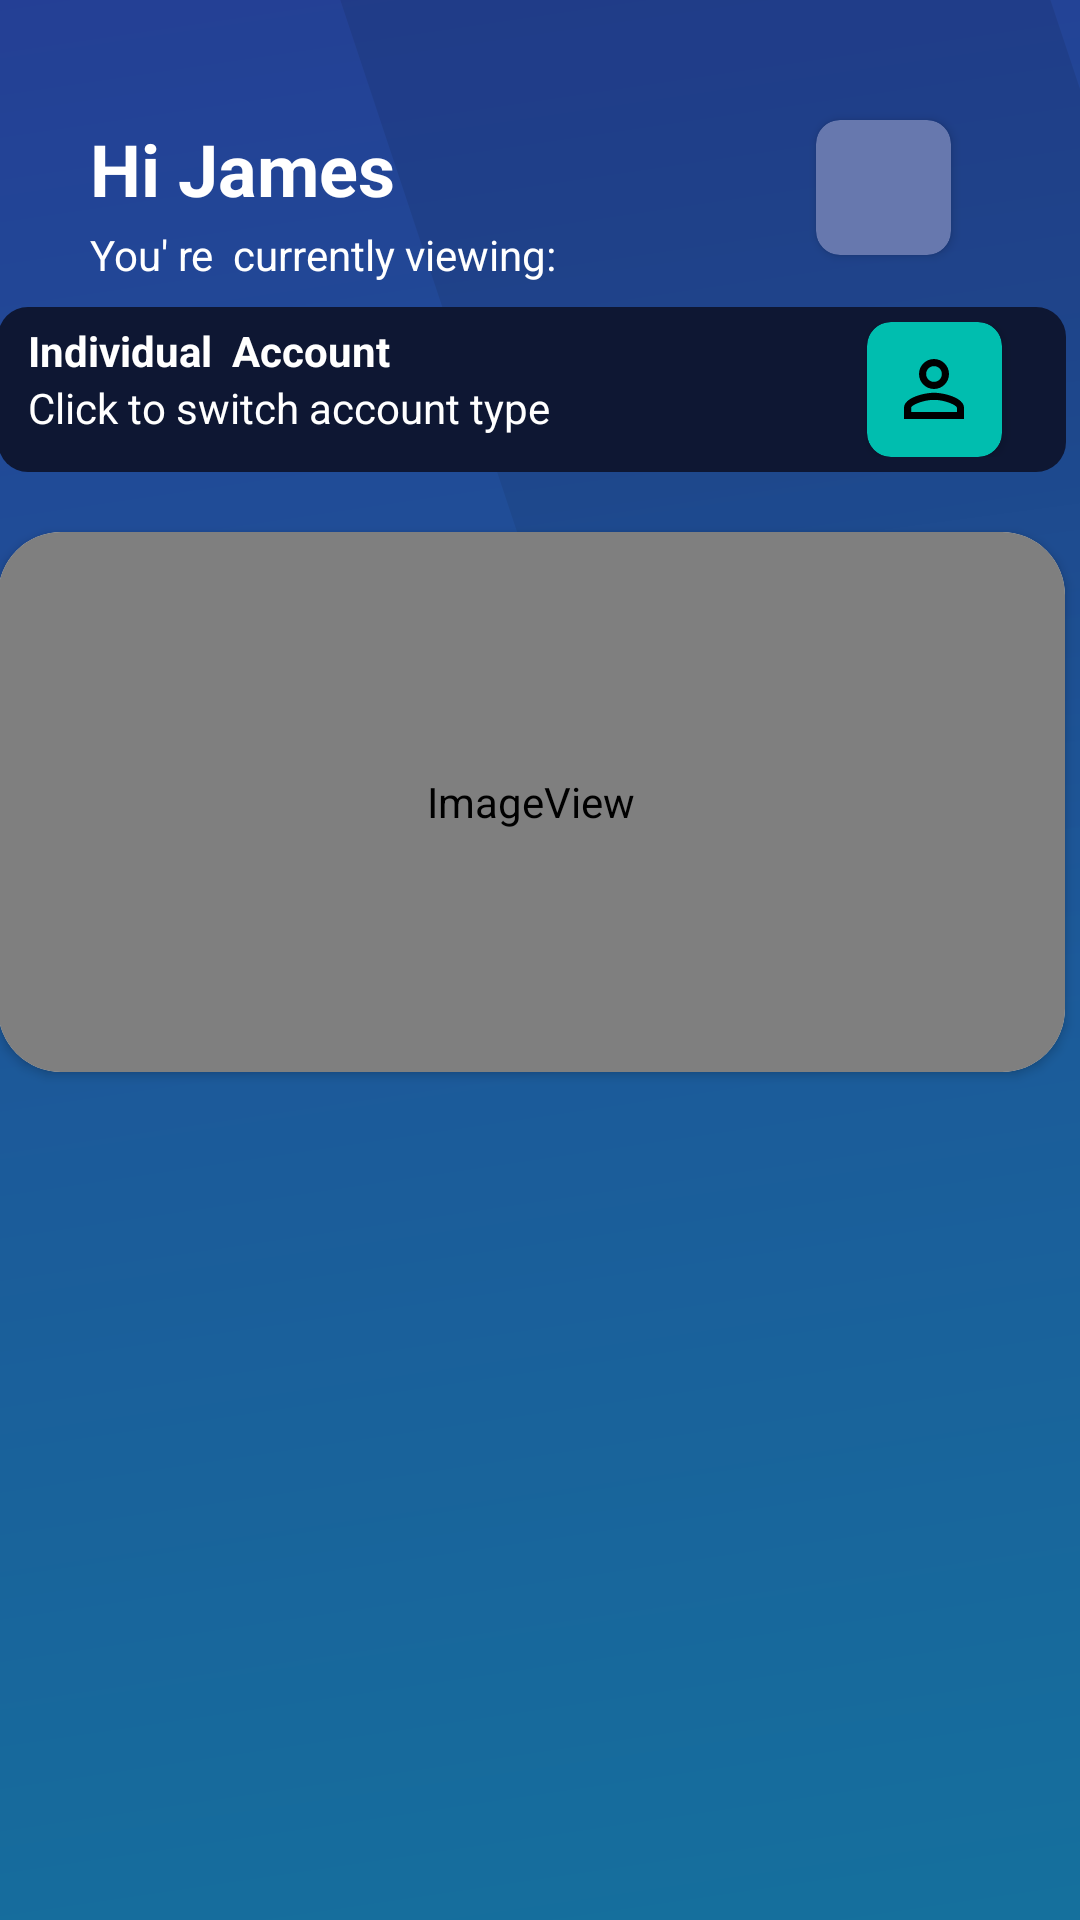

Locate icon controls on the screen. Image size 1080*1920, boxes as (x1, y1, x2, y2).
person: (904, 359, 964, 419)
